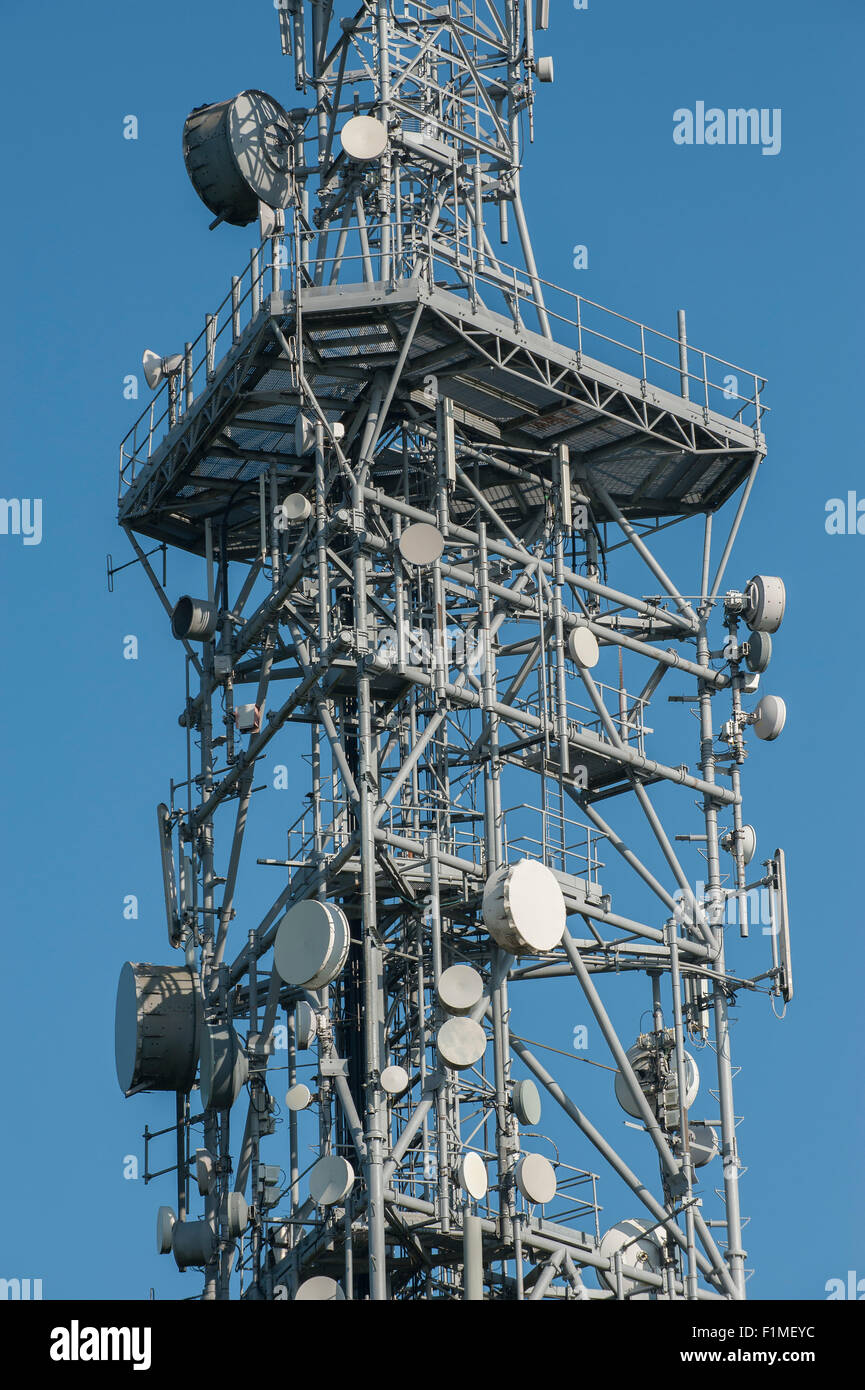ba: (98, 951, 225, 1125), (470, 843, 584, 991), (192, 89, 308, 234), (258, 883, 349, 1009), (613, 1021, 697, 1132), (340, 94, 419, 207), (729, 557, 783, 640), (740, 672, 794, 752), (515, 1133, 568, 1213), (385, 507, 442, 578), (553, 597, 605, 674), (448, 1144, 497, 1210), (377, 1053, 419, 1108)
